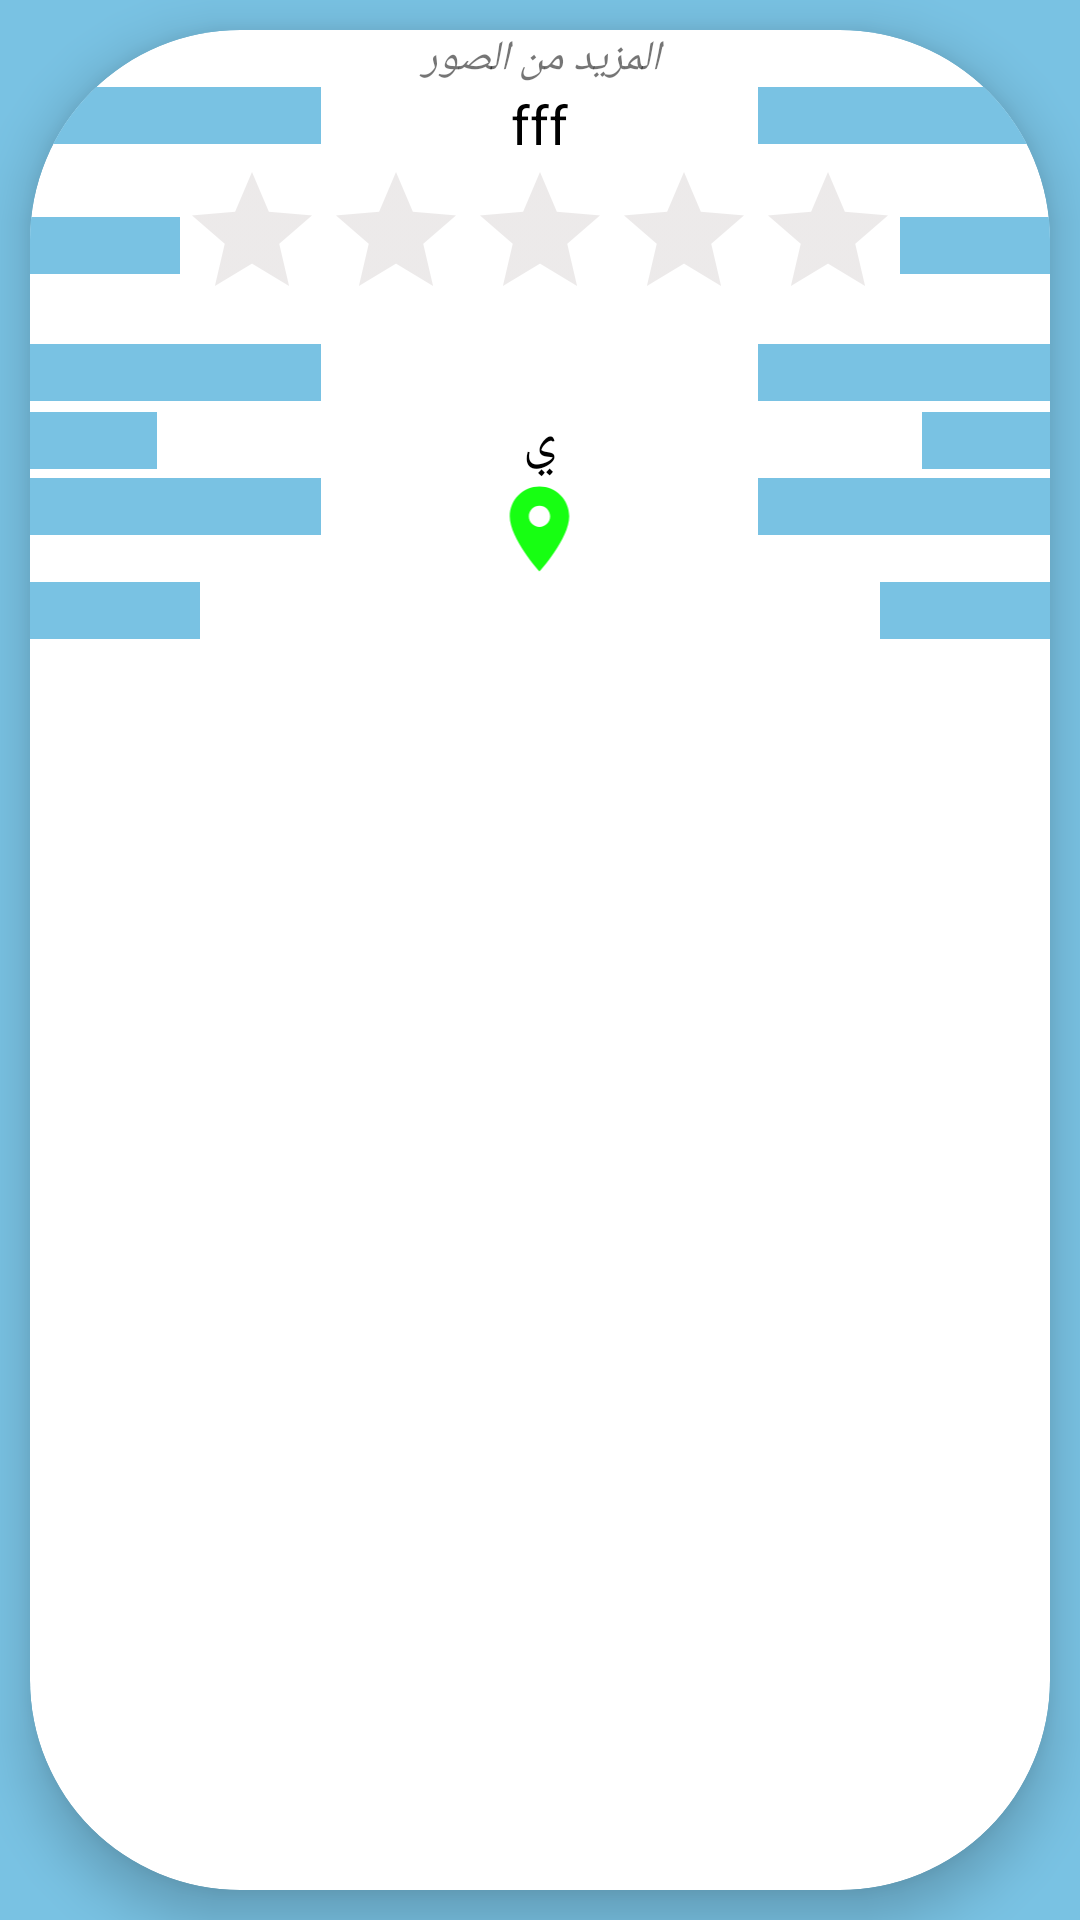

Where to tap for icons on this 1080*1920 app screen, as [x,y]:
location: [539,528]
